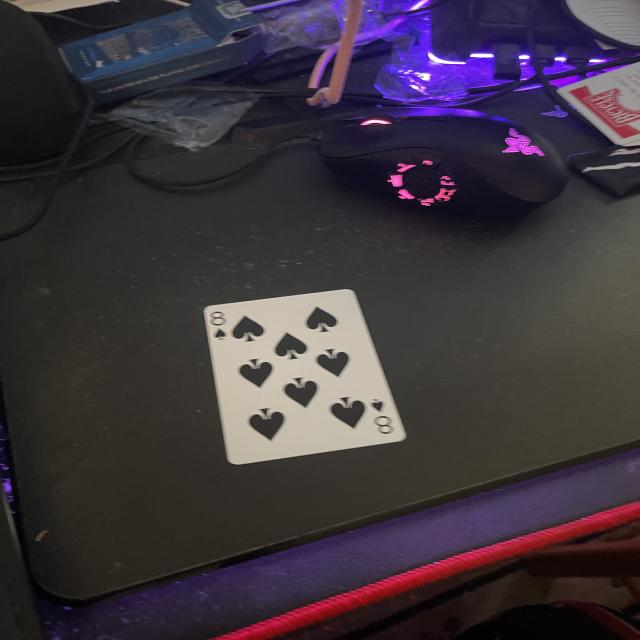8 of spades: (206, 287, 408, 465)
